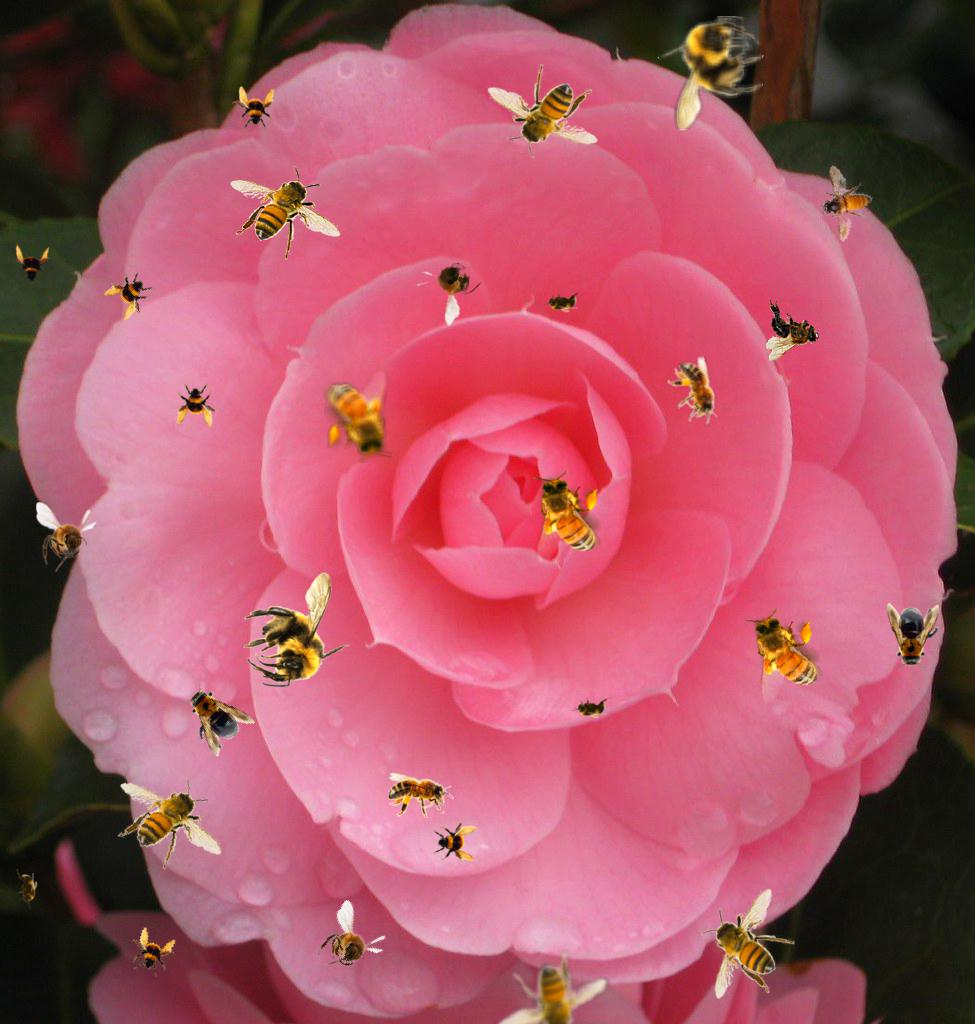Bee: (108, 767, 233, 879), (476, 929, 621, 1024), (657, 16, 764, 131), (243, 572, 350, 687), (230, 166, 341, 260), (487, 64, 598, 158), (701, 888, 795, 999), (743, 602, 827, 707), (405, 235, 498, 329), (305, 898, 396, 992), (170, 673, 256, 759), (322, 368, 394, 465), (533, 471, 601, 564), (811, 164, 879, 247), (661, 354, 731, 433), (36, 502, 97, 572), (99, 263, 163, 327), (887, 603, 939, 671), (766, 299, 819, 361), (123, 924, 179, 980), (388, 773, 454, 818), (232, 86, 276, 130), (8, 243, 52, 287), (175, 383, 219, 427), (433, 819, 477, 863), (16, 869, 38, 909), (542, 291, 582, 313), (571, 697, 611, 719)
